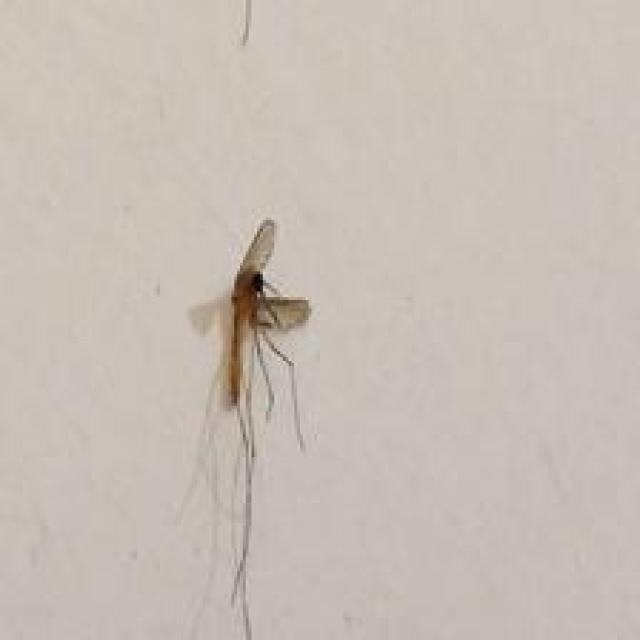Culex: (174, 217, 314, 640)
